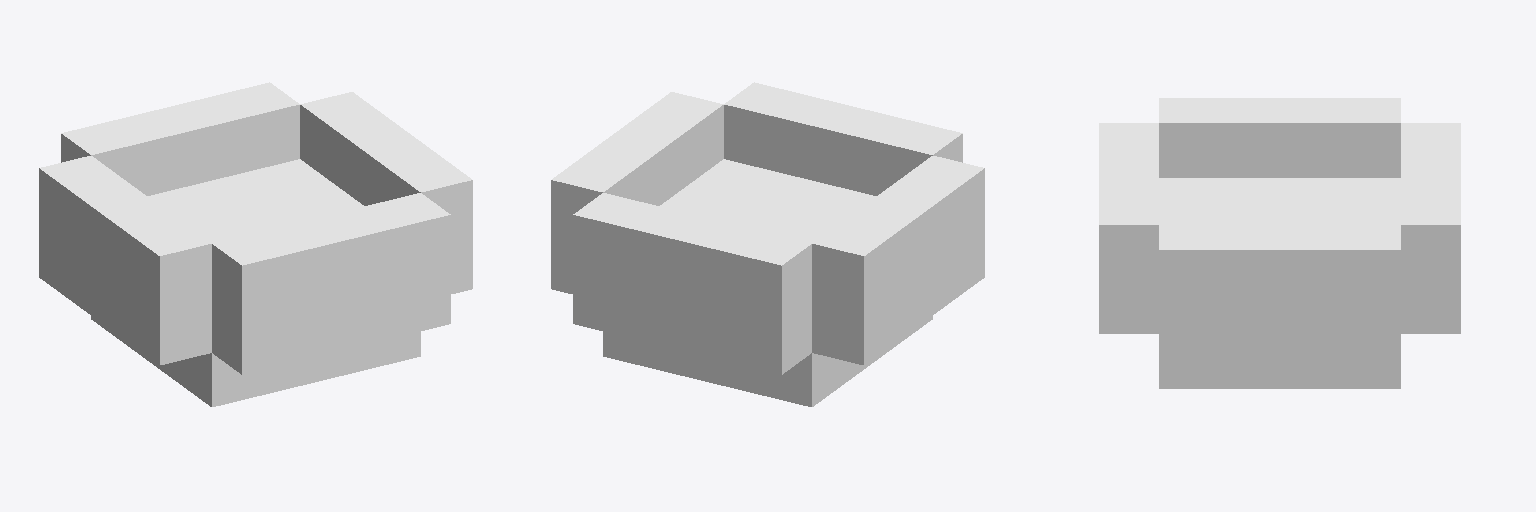
The model's file is Ostia.obj.
3 renders of one model, left to right at view 1: azimuth 30°, elevation 25°; view 2: azimuth 150°, elevation 25°; view 3: azimuth 270°, elevation 25°, orthographic.
Parts seen in each view (by area): view 1: object 1; view 2: object 1; view 3: object 1.
Boxes of the visible parts, x1,y1,x2,y2 form: object 1: [39, 82, 472, 406]; object 1: [551, 82, 984, 406]; object 1: [1099, 98, 1460, 388].
Size of the model in its own units: 0.6 by 0.3 by 0.6.